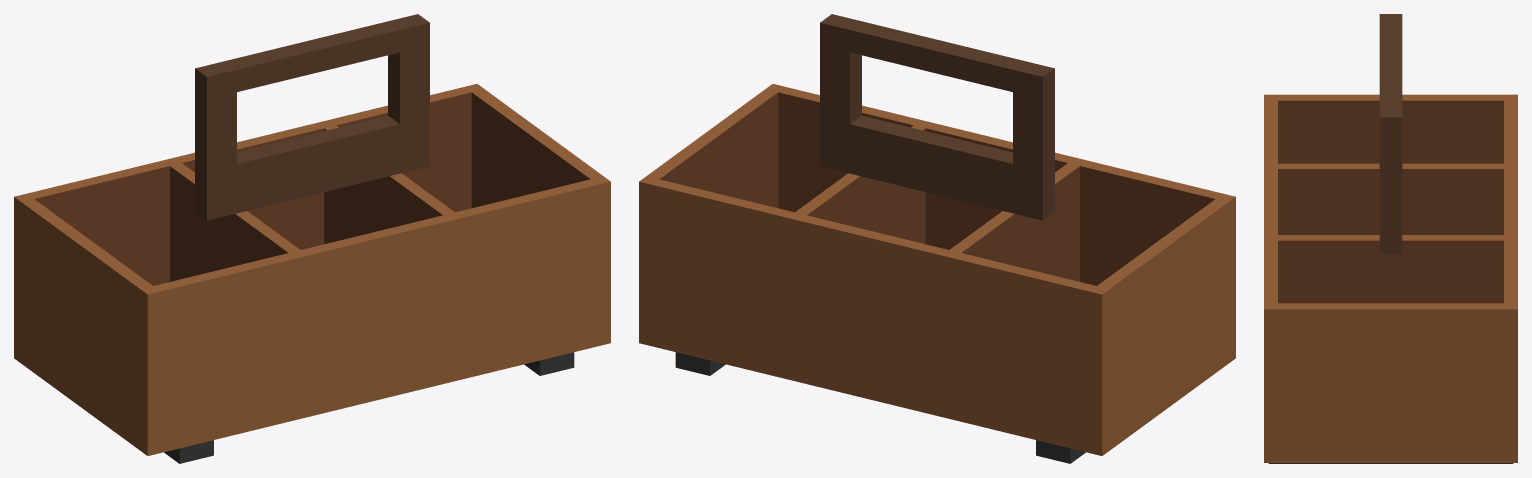
The picture shows the model from 3 angles, left to right: view 1: azimuth 30°, elevation 25°; view 2: azimuth 150°, elevation 25°; view 3: azimuth 270°, elevation 25°; orthographic projection. The views are drawn at different scales.
Parts seen in each view (by area): view 1: ContinuousThreeDeepWellCaddyBody, RaisedBoundedThroughGripHandle, FullTransverseGroundFoot_Right, FullTransverseGroundFoot_Left; view 2: ContinuousThreeDeepWellCaddyBody, RaisedBoundedThroughGripHandle, FullTransverseGroundFoot_Right, FullTransverseGroundFoot_Left; view 3: ContinuousThreeDeepWellCaddyBody, RaisedBoundedThroughGripHandle.
Boxes of the visible parts, x1,y1,x2,y2 form: ContinuousThreeDeepWellCaddyBody: [14, 84, 610, 455]; RaisedBoundedThroughGripHandle: [195, 14, 429, 220]; FullTransverseGroundFoot_Right: [524, 352, 574, 375]; FullTransverseGroundFoot_Left: [164, 440, 213, 463]; ContinuousThreeDeepWellCaddyBody: [639, 84, 1235, 455]; RaisedBoundedThroughGripHandle: [820, 14, 1054, 220]; FullTransverseGroundFoot_Right: [675, 352, 725, 375]; FullTransverseGroundFoot_Left: [1036, 440, 1085, 463]; ContinuousThreeDeepWellCaddyBody: [1264, 94, 1517, 462]; RaisedBoundedThroughGripHandle: [1379, 14, 1402, 253].
Bounding box in the file's own units: 0.54 × 0.36 × 0.27.
